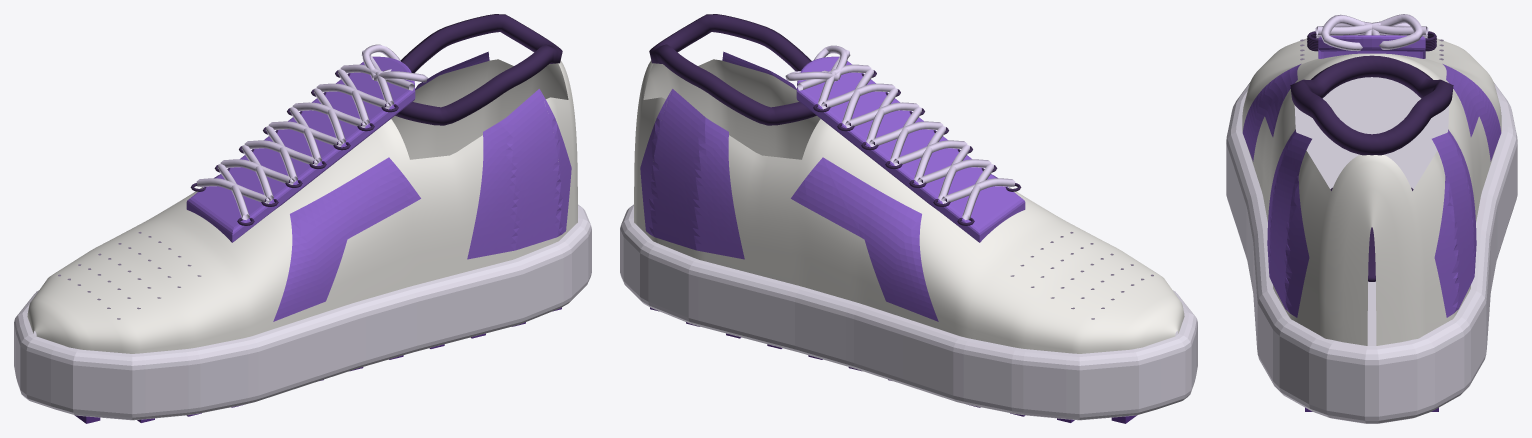
Rendered from rua7-movimento-v2.glb.
3 views of the same model, side by side, from view 1: azimuth 30°, elevation 25°; view 2: azimuth 150°, elevation 25°; view 3: azimuth 270°, elevation 25° (orthographic). The views are drawn at different scales.
Parts seen in each view (by area): view 1: Tecido perola, Sola escultural, Paineis Rua 7, Cadarcos lavanda, Forro uva; view 2: Tecido perola, Sola escultural, Paineis Rua 7, Cadarcos lavanda, Forro uva; view 3: Sola escultural, Tecido perola, Paineis Rua 7, Forro uva, Cadarcos lavanda.
Part boxes in pixels (left/top/right/bottom): Tecido perola: left=27, top=59, right=577, bottom=353; Sola escultural: left=14, top=204, right=591, bottom=420; Paineis Rua 7: left=186, top=51, right=571, bottom=321; Cadarcos lavanda: left=196, top=44, right=427, bottom=220; Forro uva: left=190, top=14, right=562, bottom=225; Tecido perola: left=634, top=59, right=1184, bottom=353; Sola escultural: left=620, top=204, right=1197, bottom=420; Paineis Rua 7: left=640, top=51, right=1025, bottom=321; Cadarcos lavanda: left=785, top=45, right=1015, bottom=220; Forro uva: left=649, top=14, right=1021, bottom=225; Sola escultural: left=1226, top=77, right=1517, bottom=423; Tecido perola: left=1242, top=38, right=1501, bottom=345; Paineis Rua 7: left=1242, top=35, right=1501, bottom=317; Forro uva: left=1290, top=31, right=1453, bottom=281; Cadarcos lavanda: left=1315, top=14, right=1428, bottom=51.
Bounding box in the file's own units: 3.61 × 1.63 × 1.39.
